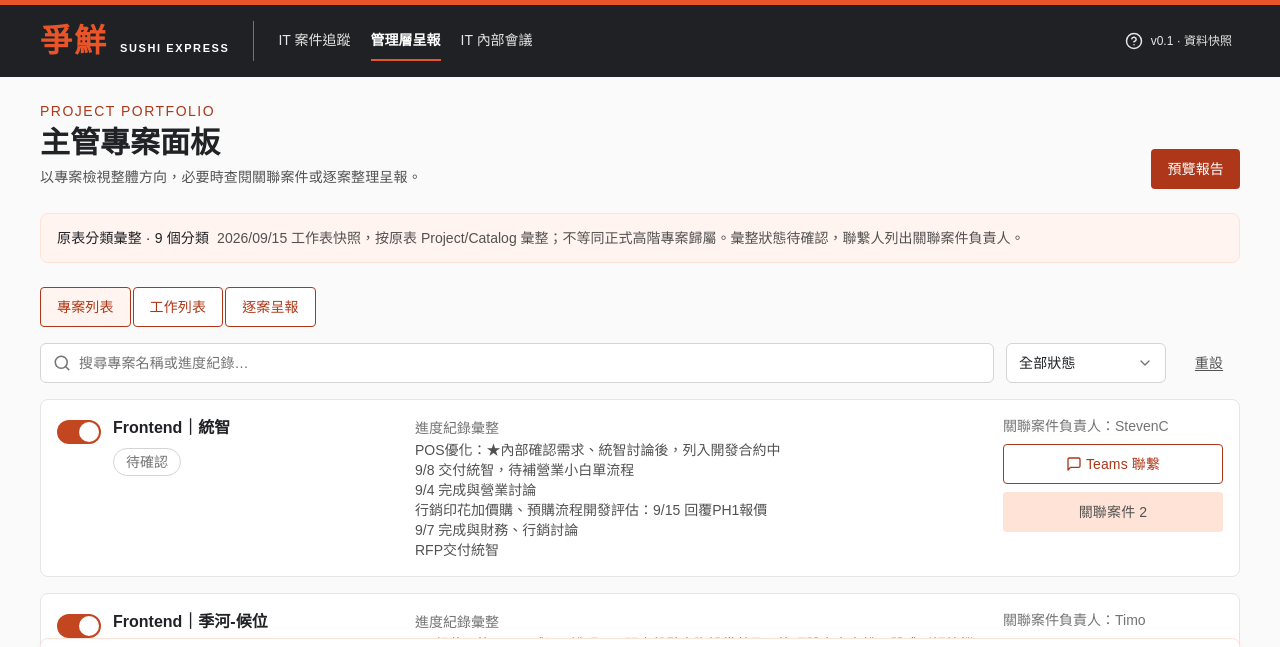
Scenario: ManagementView：工作列表（US-003） › 查無案件時顯示空狀態
The image size is (1280, 647).
Click the tab "工作列表" at (178, 307), box left=133, top=287, right=223, bottom=327
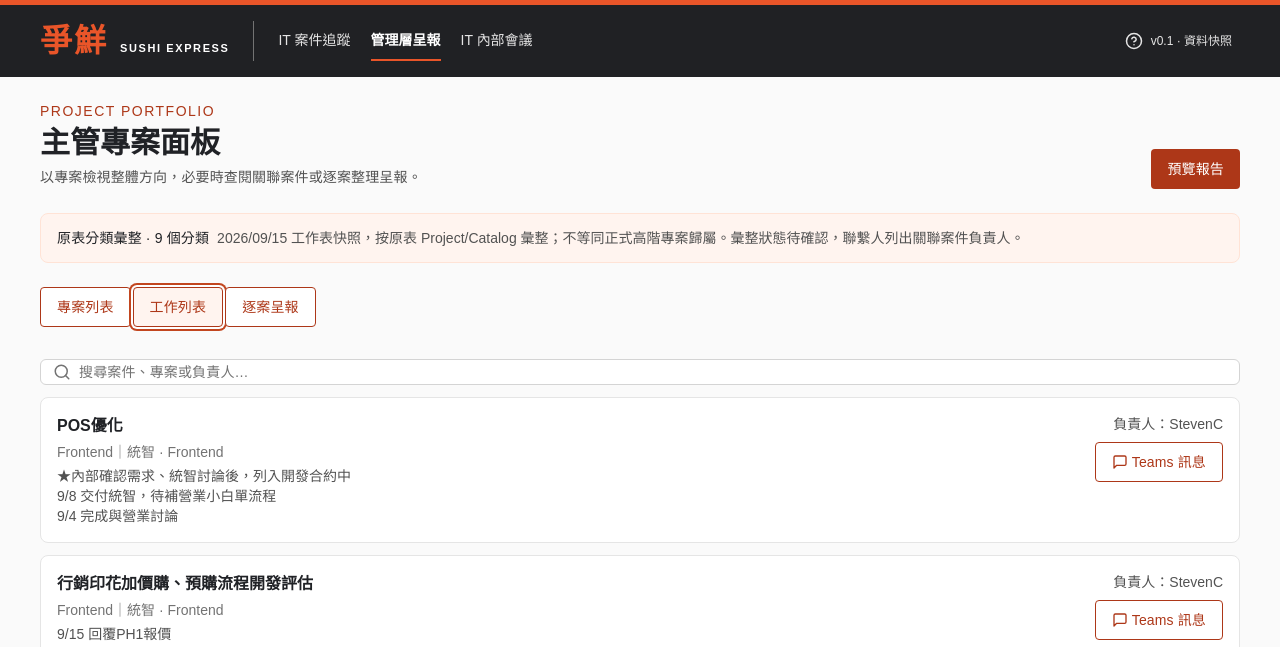
Type "zzz" into the search field named "搜尋管理層工作列表" at (653, 372), box left=79, top=360, right=1227, bottom=384
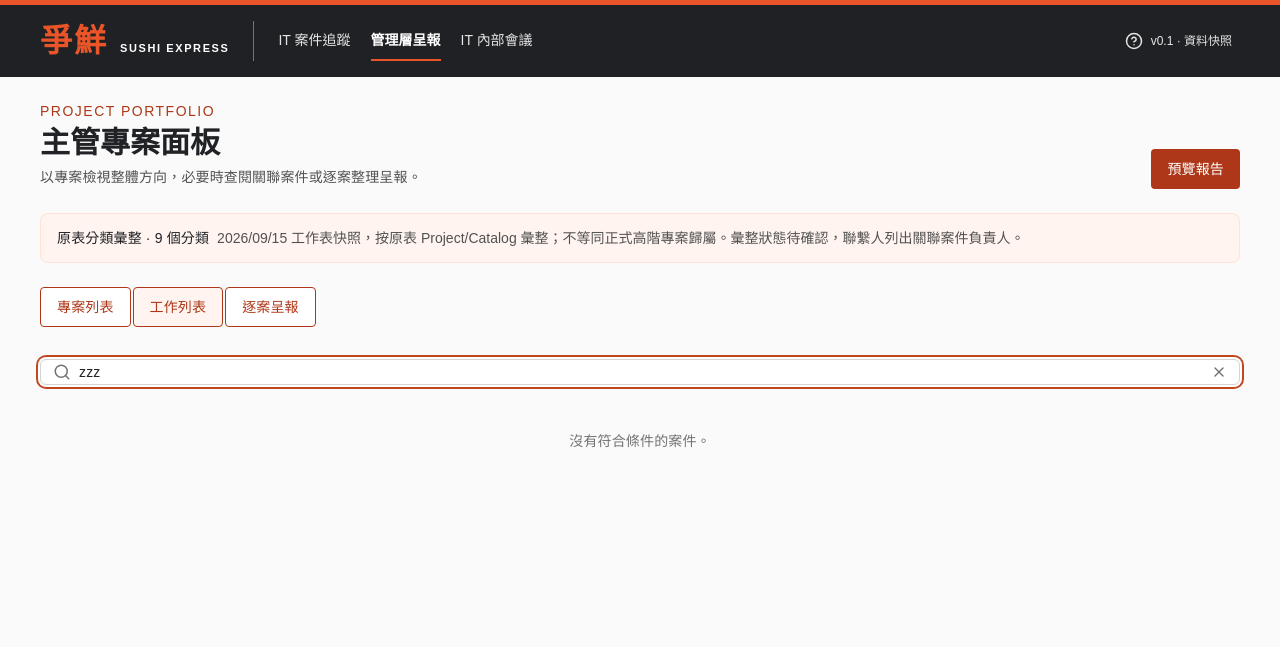
Expected: the text "沒有符合條件的案件。" is shown, left=569, top=433, right=711, bottom=449
